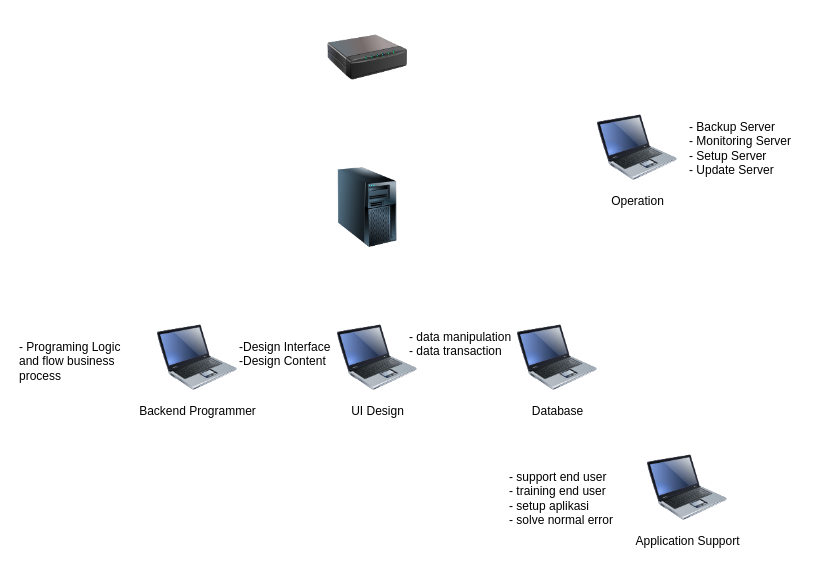
This 824x565 diagram has some shape labels left out. The shapes that lost their labels are listed below. From the top down, each one's centre as x and y in pixels, then its label:
At point (367, 57): "Server Akademik (SIAP) Live Server".
At point (367, 207): "Testing Server".
